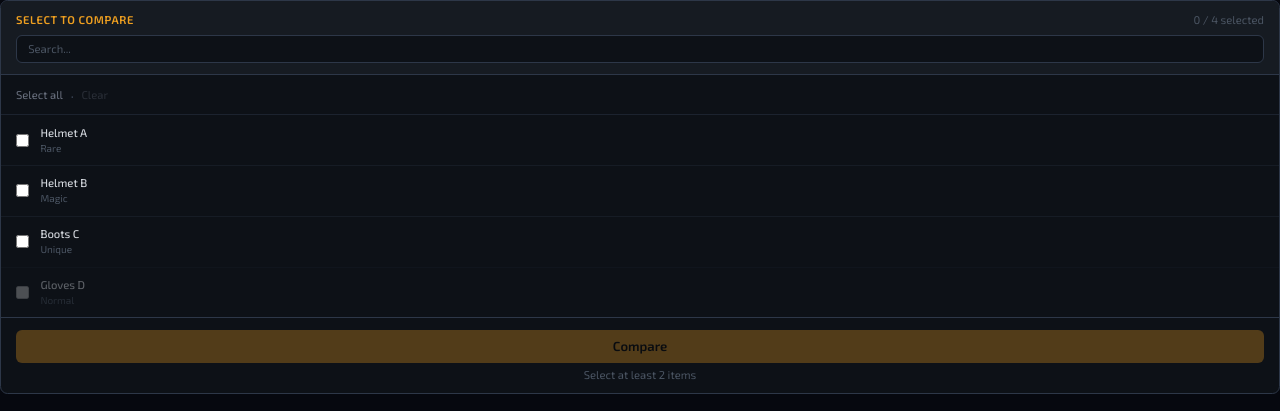
Test: BulkSelector › filters items by search query
Type "Helmet" into the field at (640, 49), box left=16, top=35, right=1264, bottom=63
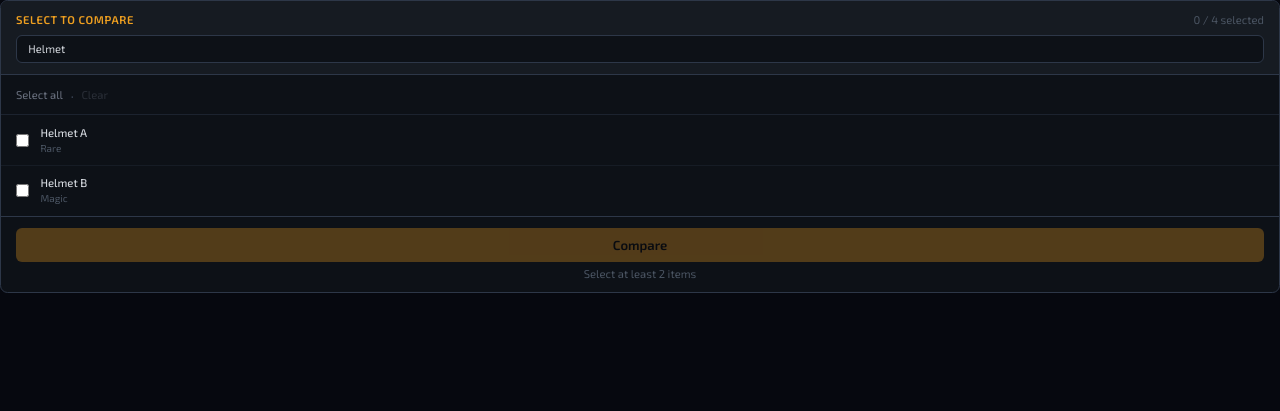
Expected: the text "Helmet A" is shown, left=40, top=125, right=87, bottom=140
Now the text "Boots C" is gone
